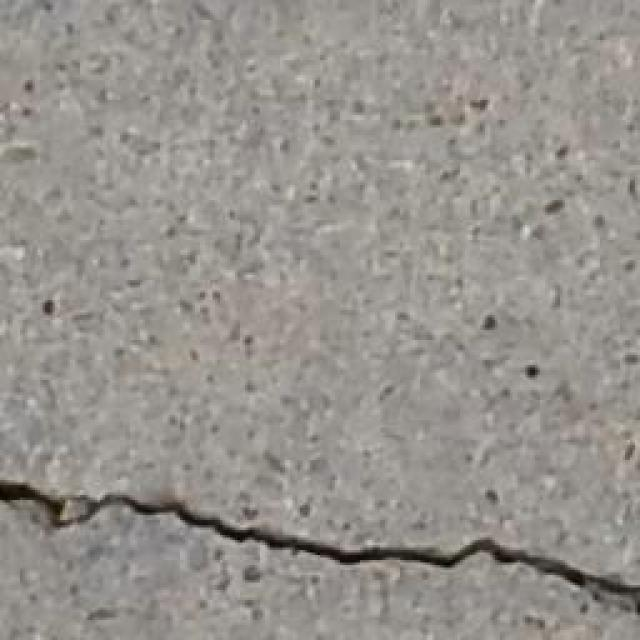concrete-crack: (0, 480, 640, 618)
